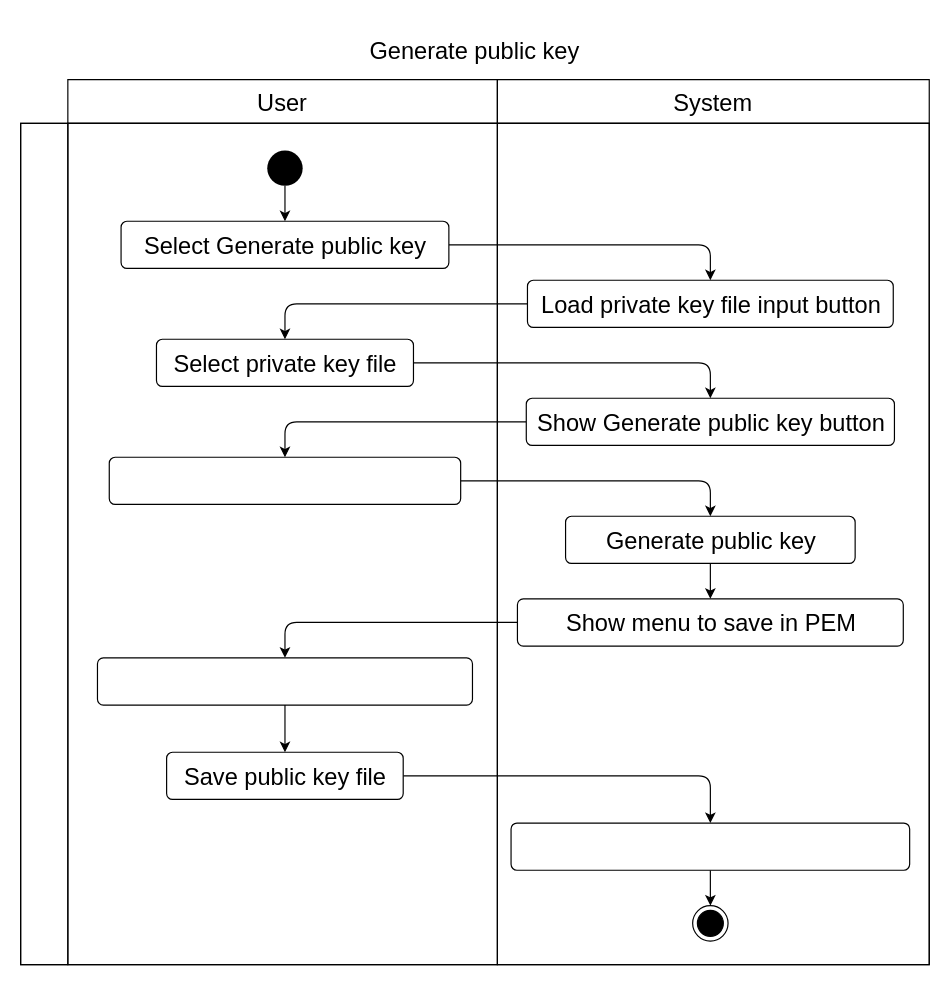
Image size: 950x985. Some labels were removed from this diagram. Each missing label, with the centre of its shape:
"Click Generate public key button" goes at [284,480].
"Define public key filename" goes at [284,681].
"Show public key generated message" goes at [710,846].
